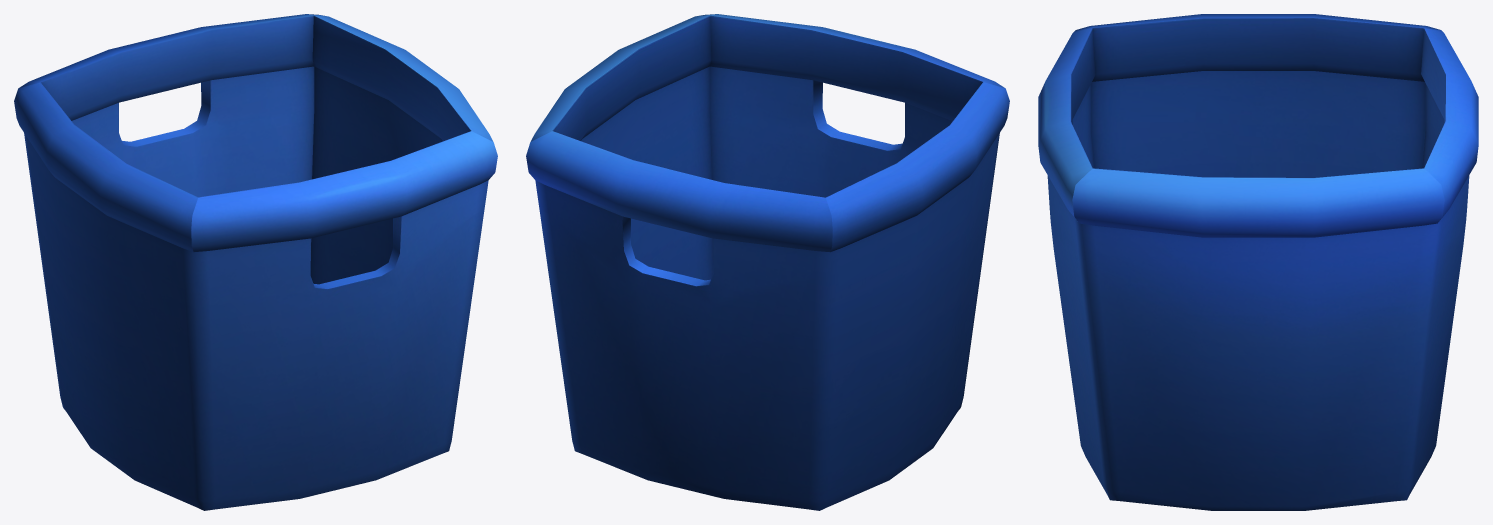
The picture shows the model from 3 angles, left to right: view 1: azimuth 30°, elevation 25°; view 2: azimuth 150°, elevation 25°; view 3: azimuth 270°, elevation 25°; orthographic projection. The views are drawn at different scales.
Visible parts, largest first — view 1: Plastic; view 2: Plastic; view 3: Plastic.
Part boxes in pixels (bbox=[...]): Plastic: bbox=[14, 14, 497, 510]; Plastic: bbox=[526, 14, 1009, 510]; Plastic: bbox=[1038, 14, 1478, 510].
Size of the model in its own units: 2 by 1.69 by 1.99.
1 material, 1 textured.
